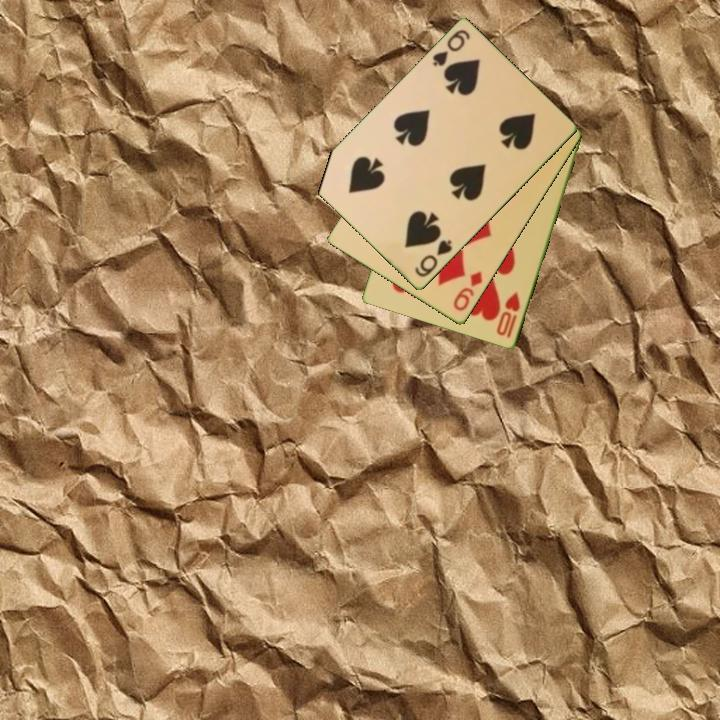10h: (493, 288, 523, 341)
6s: (411, 236, 455, 280), (429, 27, 473, 70)
9d: (450, 268, 486, 314)
